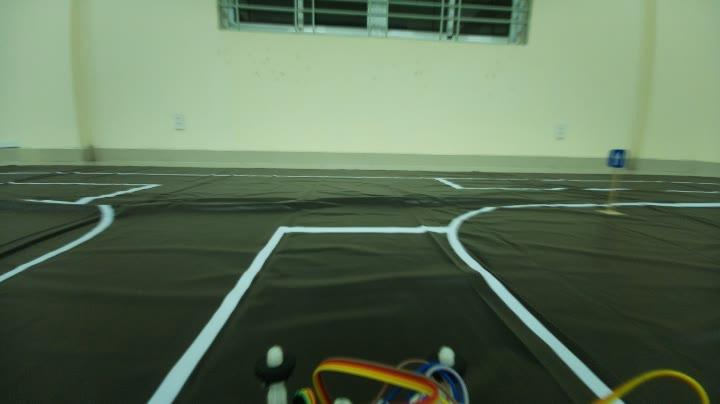onewayroad: (603, 145, 628, 172)
